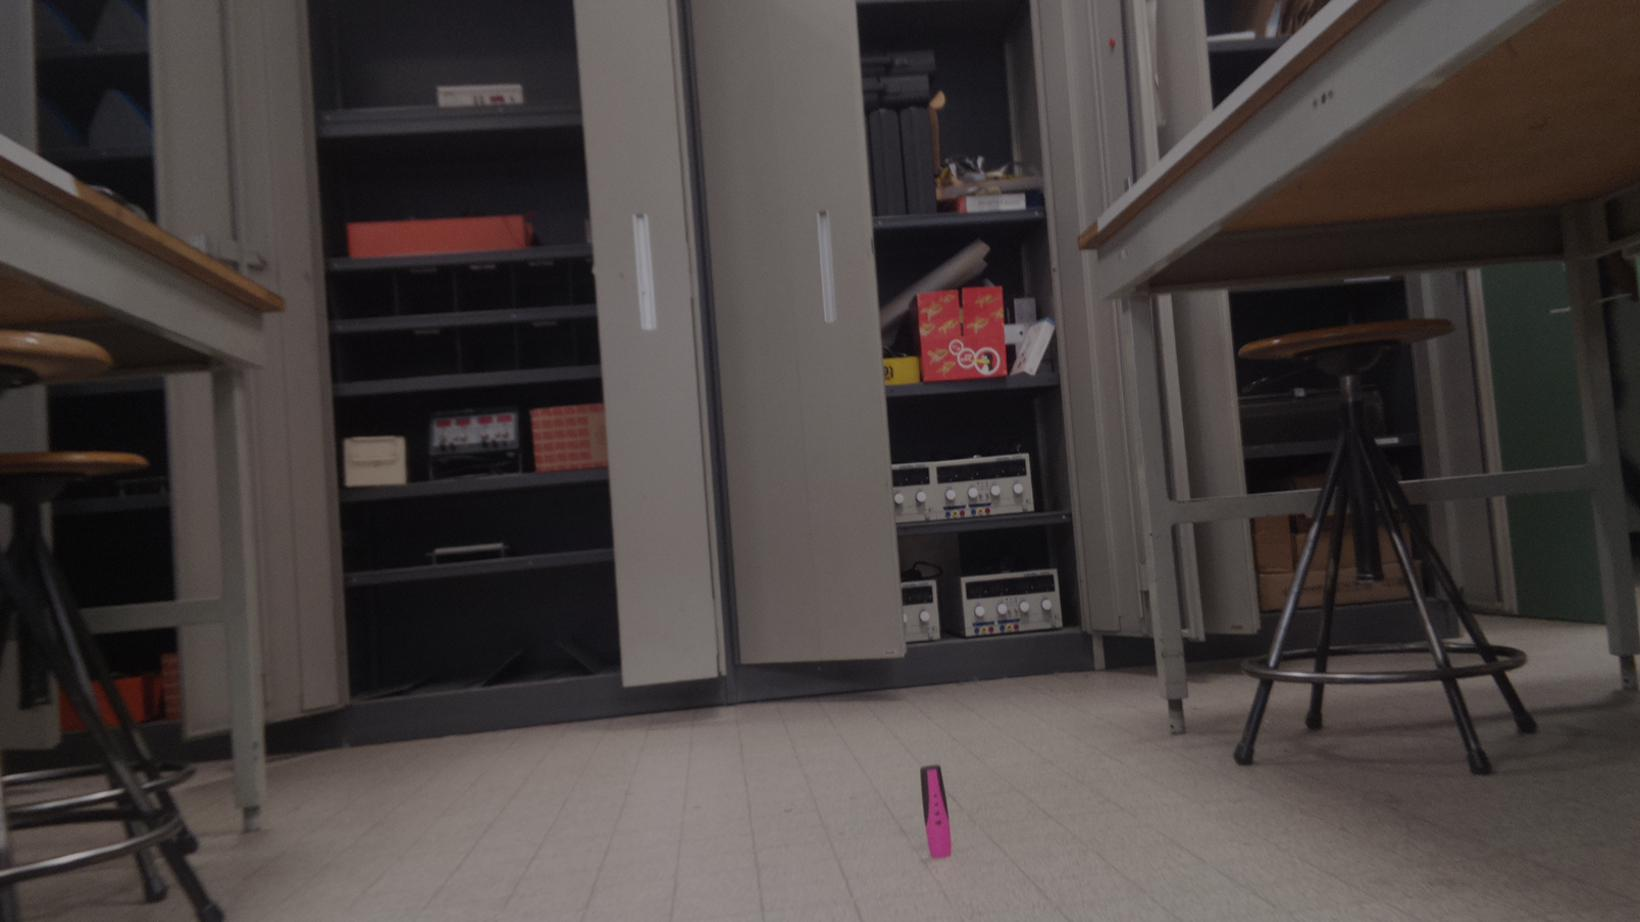small: (921, 757, 965, 869)
